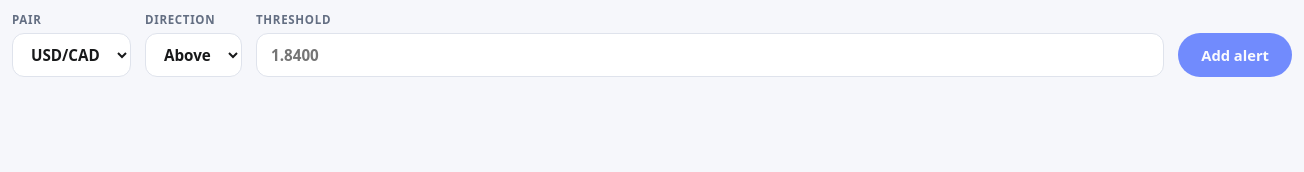
Test: shows the error message when the store rejects
The width and height of the screenshot is (1304, 172).
Type "1.5" into the number field labelled "Threshold". click: (710, 55)
box: [256,33,1164,77]
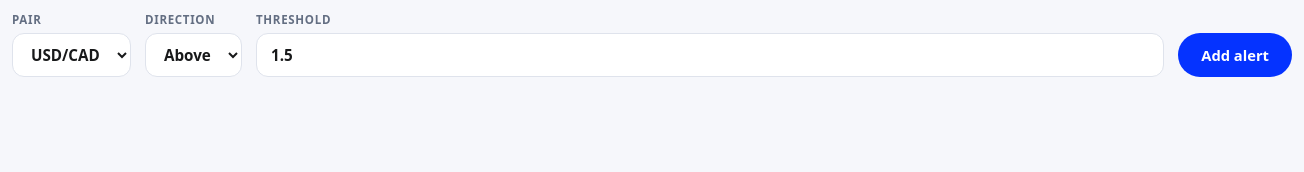
Submit the form, box [12,12,1292,77]
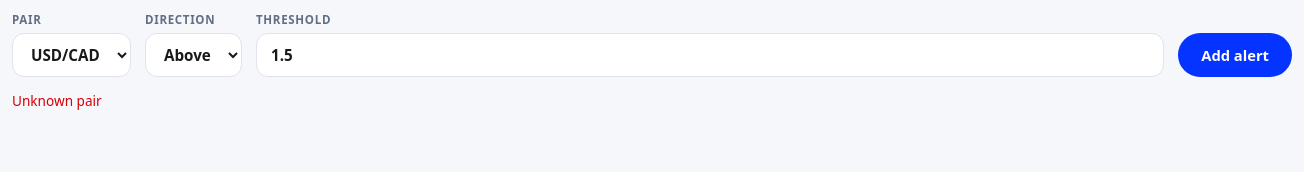
Now the message "Unknown pair" is shown, box [12,91,102,110]
